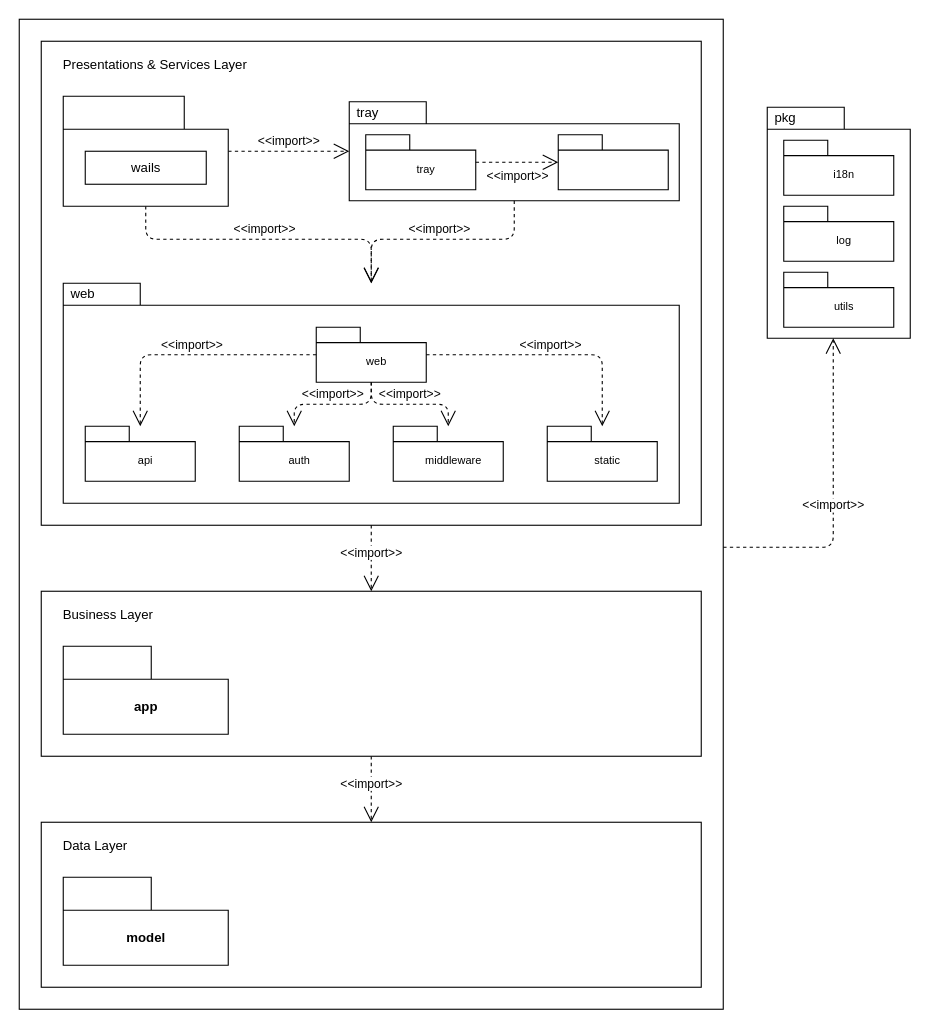
Image size: 930x1029. Some labels were removed from this diagram. Each missing label, with the centre of its shape:
main: [145,150]
menus: [612,162]
